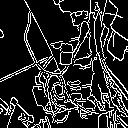cube: (56, 42, 77, 66)
